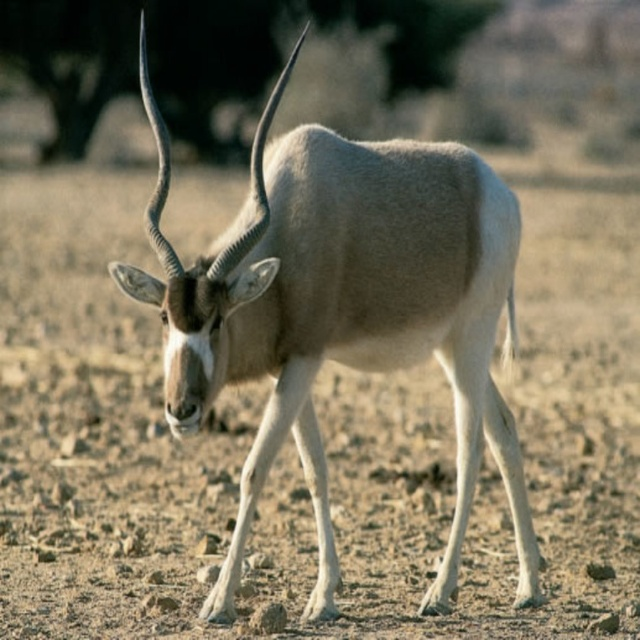Deer: (108, 9, 540, 622)
